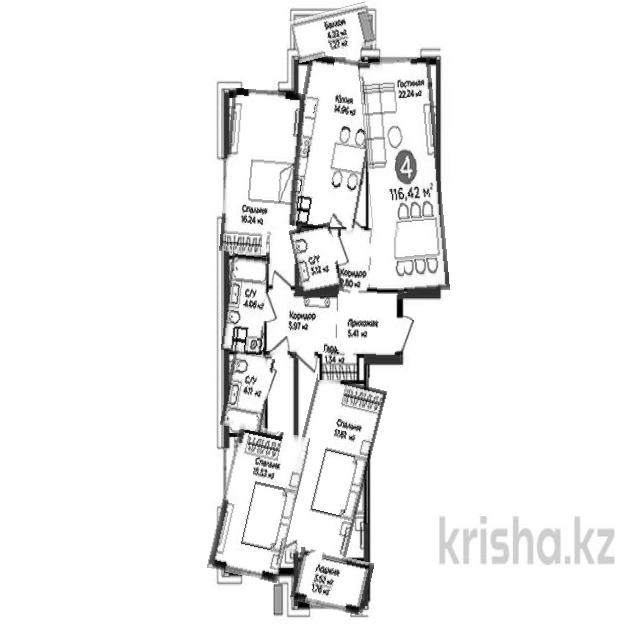balcony: (292, 551, 371, 613), (291, 5, 375, 59)
bathroom: (224, 254, 270, 354), (223, 352, 272, 430), (292, 225, 341, 298)
hallway: (264, 227, 402, 360)
kitchen: (287, 55, 376, 234)
living_room: (363, 59, 445, 294), (285, 377, 377, 563), (215, 425, 303, 580), (222, 90, 304, 256)
other: (318, 352, 368, 380)
